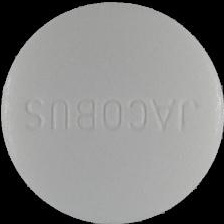55695-025: (0, 0, 224, 224)
